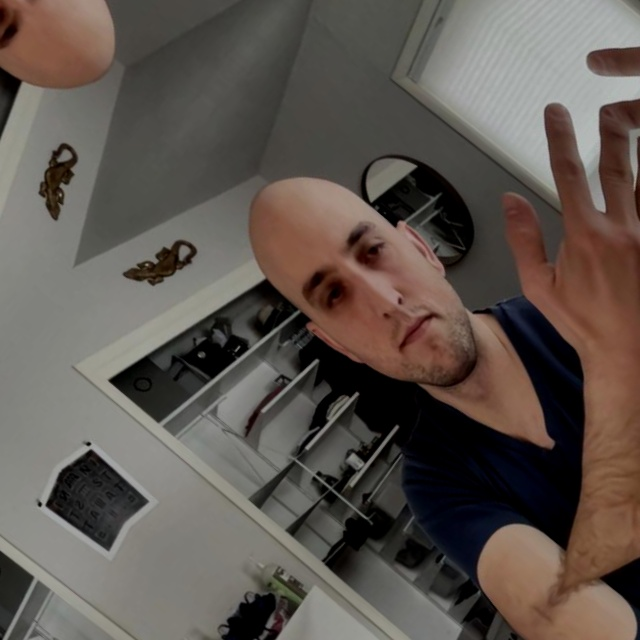Paper: (426, 71, 640, 419)
